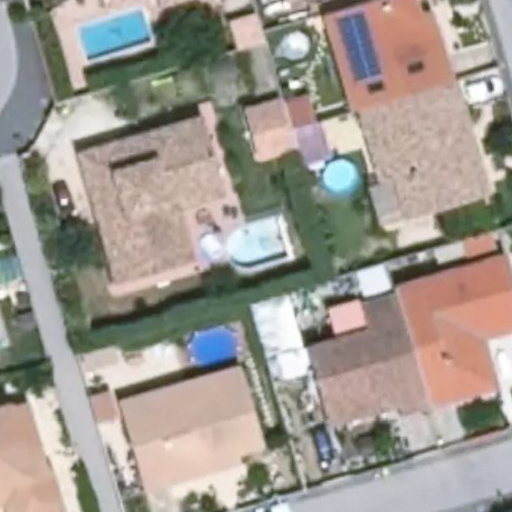pool: (211, 236, 295, 252)
